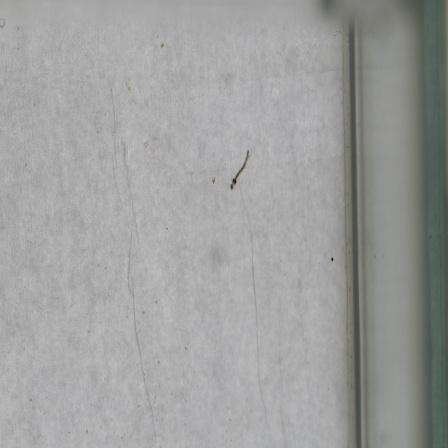Jentik-Nyamuk: (226, 146, 253, 194)
